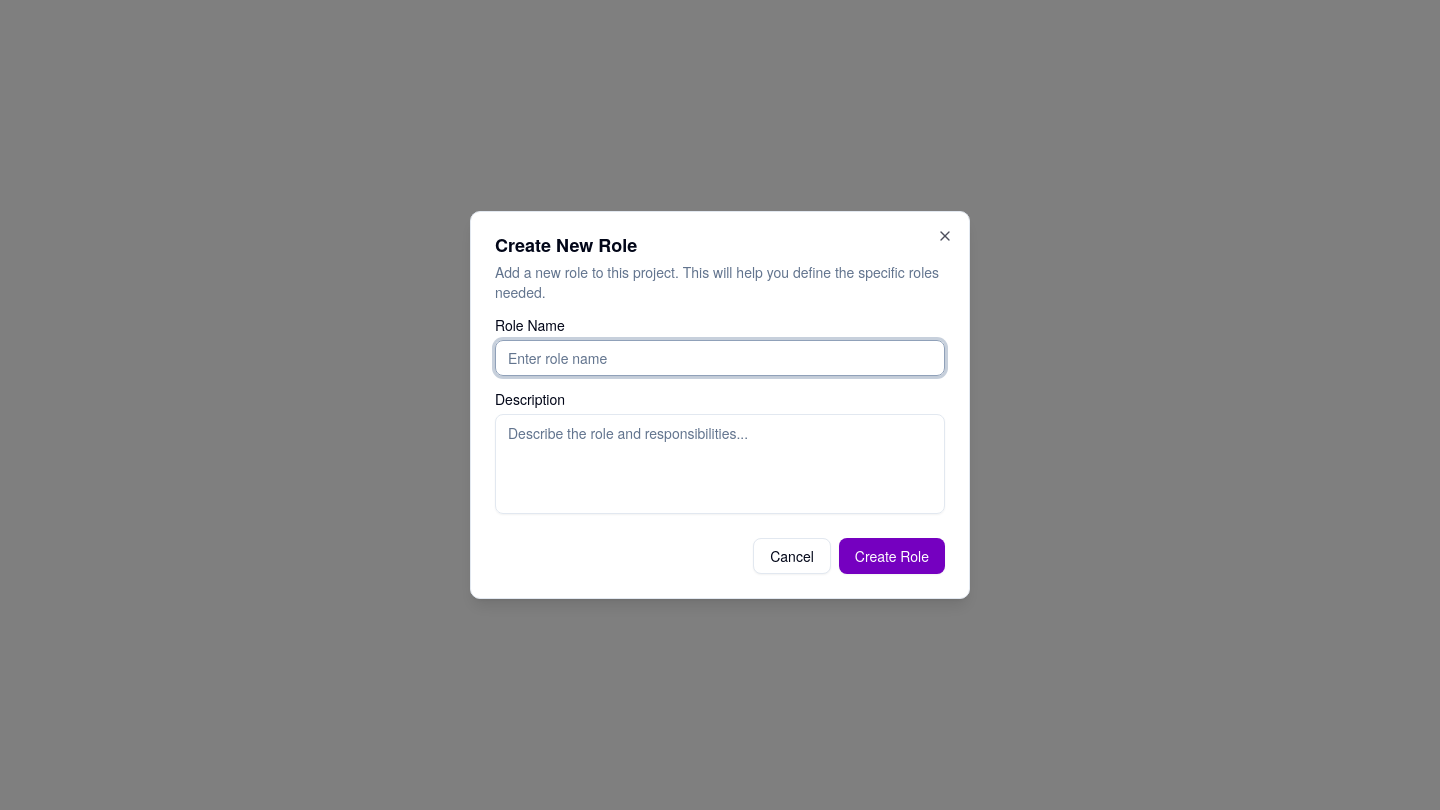
CreateRoleModal › validates required fields
The width and height of the screenshot is (1440, 810).
Click the button "Create Role".
click(892, 556)  # box [839,538,945,574]
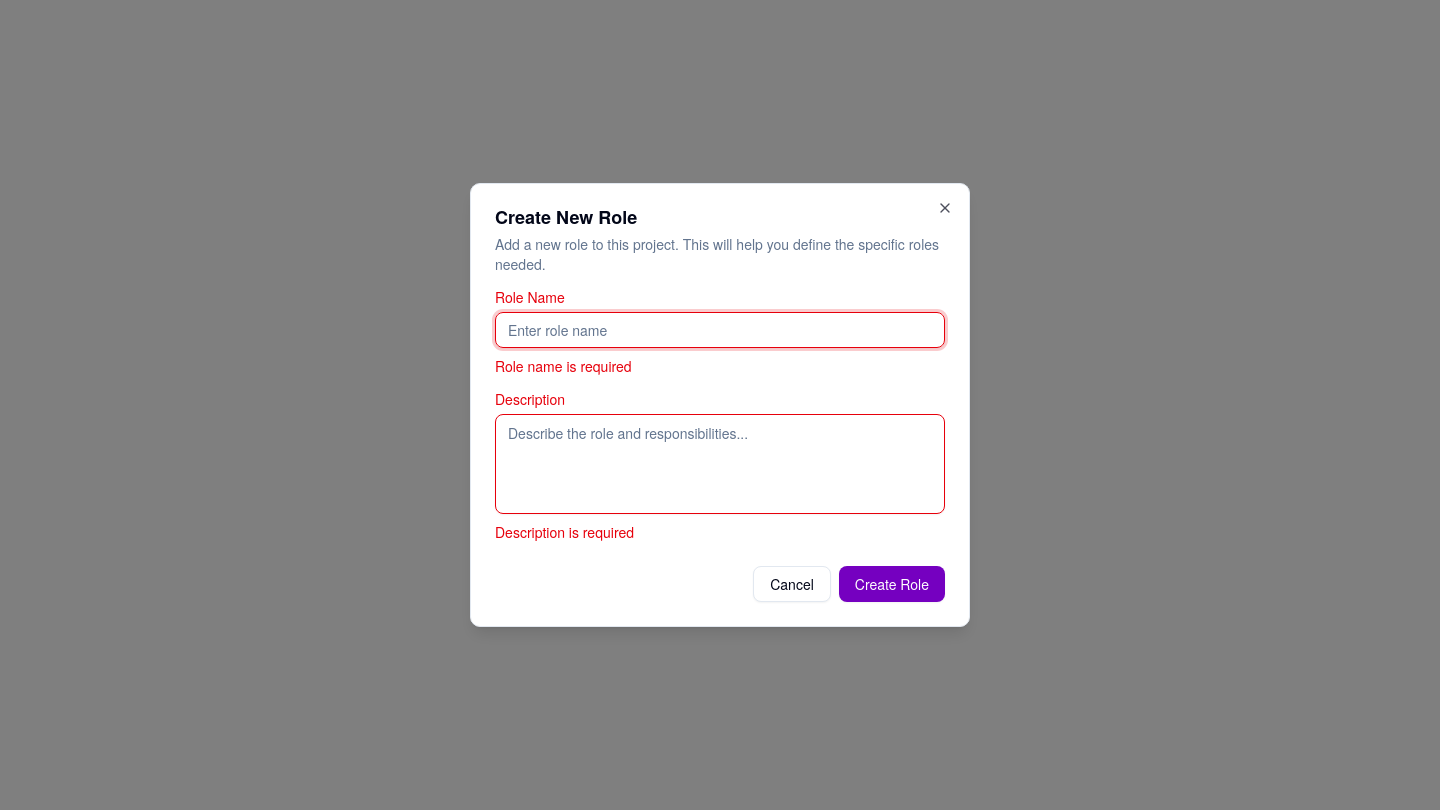
Check: the text "Role name is required" is shown, box [495,356,632,376]
Check: the text "Description is required" is shown, box [495,522,634,542]
